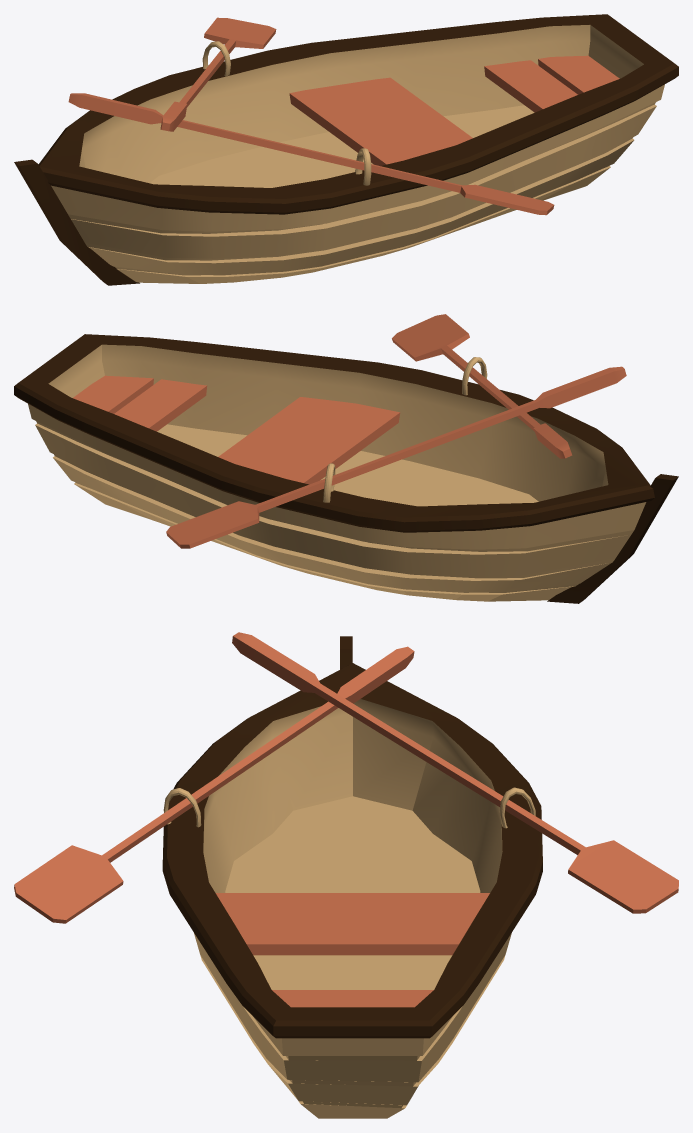
The model's file is rowboat_withthings.fbx.
3 renders of one model, top to bottom at view 1: azimuth 30°, elevation 25°; view 2: azimuth 150°, elevation 25°; view 3: azimuth 270°, elevation 25°, orthographic. The views are drawn at different scales.
Parts seen in each view (by area): view 1: pasted__pCube24, pasted__pCube27, pasted__pCube28; view 2: pasted__pCube24, pasted__pCube28, pasted__pCube27; view 3: pasted__pCube24, pasted__pCube28, pasted__pCube27.
Boxes of the visible parts, box(x1,y1,x2,y2) form: pasted__pCube24: box(14, 14, 678, 285); pasted__pCube27: box(68, 93, 554, 215); pasted__pCube28: box(160, 17, 276, 131); pasted__pCube24: box(14, 334, 678, 603); pasted__pCube28: box(166, 366, 626, 548); pasted__pCube27: box(392, 314, 572, 458); pasted__pCube24: box(162, 636, 542, 1118); pasted__pCube28: box(232, 632, 678, 913); pasted__pCube27: box(14, 646, 414, 923).
Bounding box in the file's own units: 3.45 × 1.06 × 2.76.
